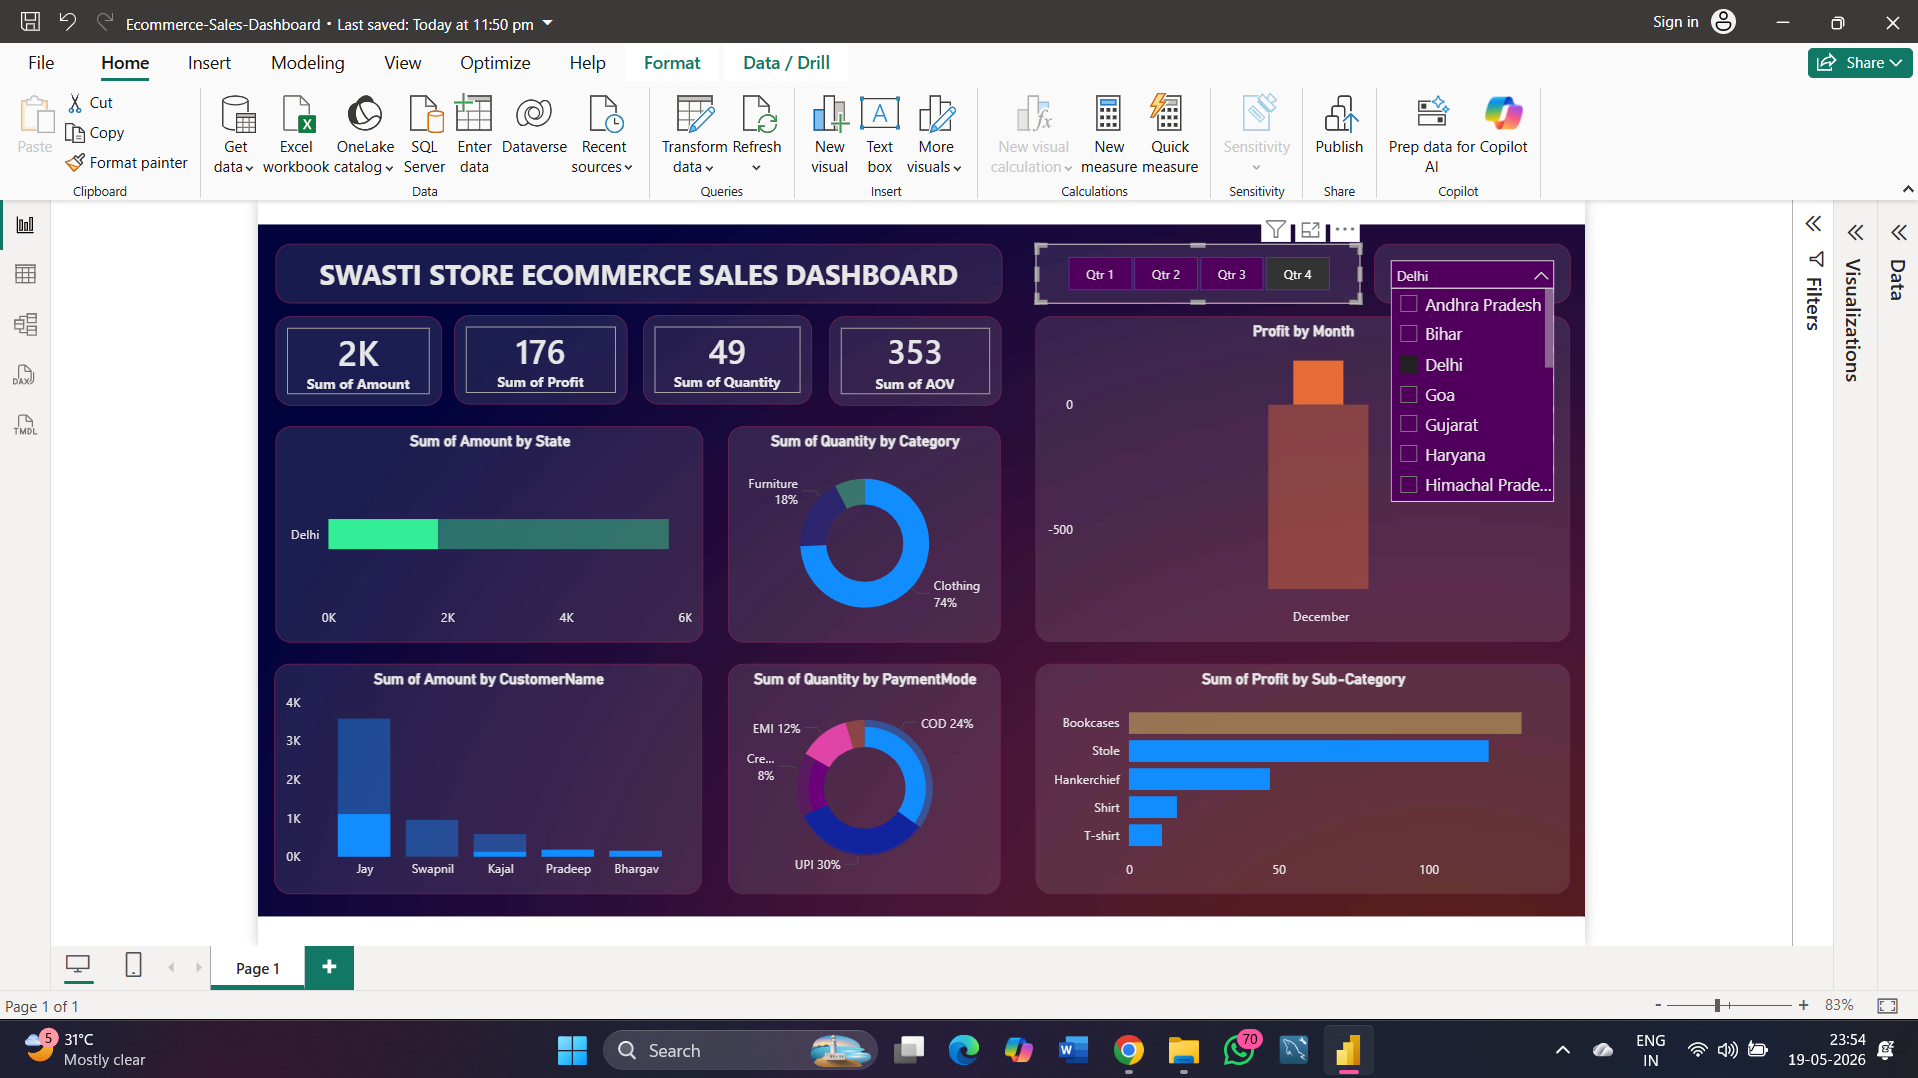

Layout of this report page (visuals, bound fields, positions):
{"tool":"powerbi","page":{"name":"Page 1","canvas":[1280,720],"ordinal":0},"visuals":[{"type":"columnChart","title":"Profit by Month","fields":{"Category":["Orders (1).Order Date.Variation.Date Hierarchy.Month"],"Y":["Sum(Details (1).Profit)"]},"box":[750.6,112.5,516,314.2],"z":0},{"type":"barChart","fields":{"Category":["Details (1).Sub-Category"],"Y":["Sum(Details (1).Profit)"]},"box":[750.6,447.3,516,222.3],"z":1000},{"type":"donutChart","fields":{"Category":["Details (1).Category"],"Y":["Sum(Details (1).Quantity)"]},"box":[454.2,218.2,263.5,208.6],"z":2000},{"type":"donutChart","fields":{"Y":["Sum(Details (1).Quantity)"],"Category":["Details (1).PaymentMode"]},"box":[454.2,447.3,263.5,222.3],"z":3000},{"type":"cardVisual","fields":{"Data":["Sum(Details (1).Amount)"]},"box":[16.5,112.5,160.5,86.4],"z":4000},{"type":"cardVisual","fields":{"Data":["Sum(Details (1).Quantity)"]},"box":[371.9,111.1,163.3,86.4],"z":5000},{"type":"cardVisual","fields":{"Data":["Sum(Details (1).Profit)"]},"box":[189.4,111.1,167.4,86.4],"z":6000},{"type":"cardVisual","fields":{"Data":["Sum(Details (1).AOV)"]},"box":[551.6,112.5,166,86.4],"z":7000},{"type":"barChart","fields":{"Category":["Orders (1).State"],"Y":["Sum(Details (1).Amount)"]},"box":[16.5,218.2,413,208.6],"z":8000},{"type":"columnChart","fields":{"Category":["Orders (1).CustomerName"],"Y":["Sum(Details (1).Amount)"]},"box":[16,447,413,222],"z":9000},{"type":"textbox","box":[16.5,42.5,701.2,57.6],"z":10000},{"type":"slicer","fields":{"Values":["Orders (1).Order Date.Variation.Date Hierarchy.Quarter"]},"box":[750.4,42.2,313.7,57.9],"z":11000},{"type":"slicer","fields":{"Values":["Orders (1).State"]},"box":[1077.4,42.2,189.4,57.9],"z":12000}]}

Visuals, with their boxes on the page's 1280x720 design canvas (x1, y1, x2, y2). These are canvas units, not pixel positions in the 1918x1078 screenshot, which may show the page scaled, cropped or inside an application window:
"Profit by Month" columnChart: 751,112,1267,427
barChart - Details (1).Sub-Category x Sum(Details (1).Profit): 751,447,1267,670
donutChart - Details (1).Category x Sum(Details (1).Quantity): 454,218,718,427
donutChart - Sum(Details (1).Quantity) x Details (1).PaymentMode: 454,447,718,670
cardVisual - Sum(Details (1).Amount): 16,112,177,199
cardVisual - Sum(Details (1).Quantity): 372,111,535,198
cardVisual - Sum(Details (1).Profit): 189,111,357,198
cardVisual - Sum(Details (1).AOV): 552,112,718,199
barChart - Orders (1).State x Sum(Details (1).Amount): 16,218,430,427
columnChart - Orders (1).CustomerName x Sum(Details (1).Amount): 16,447,429,669
textbox: 16,42,718,100
slicer - Orders (1).Order Date.Variation.Date Hierarchy.Quarter: 750,42,1064,100
slicer - Orders (1).State: 1077,42,1267,100
